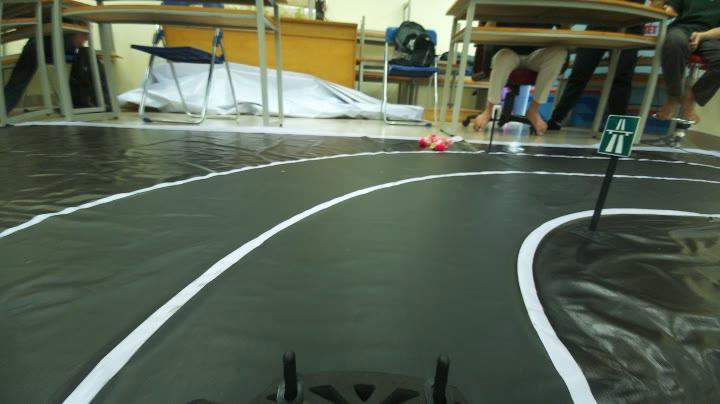highway_entry: (599, 109, 646, 159)
